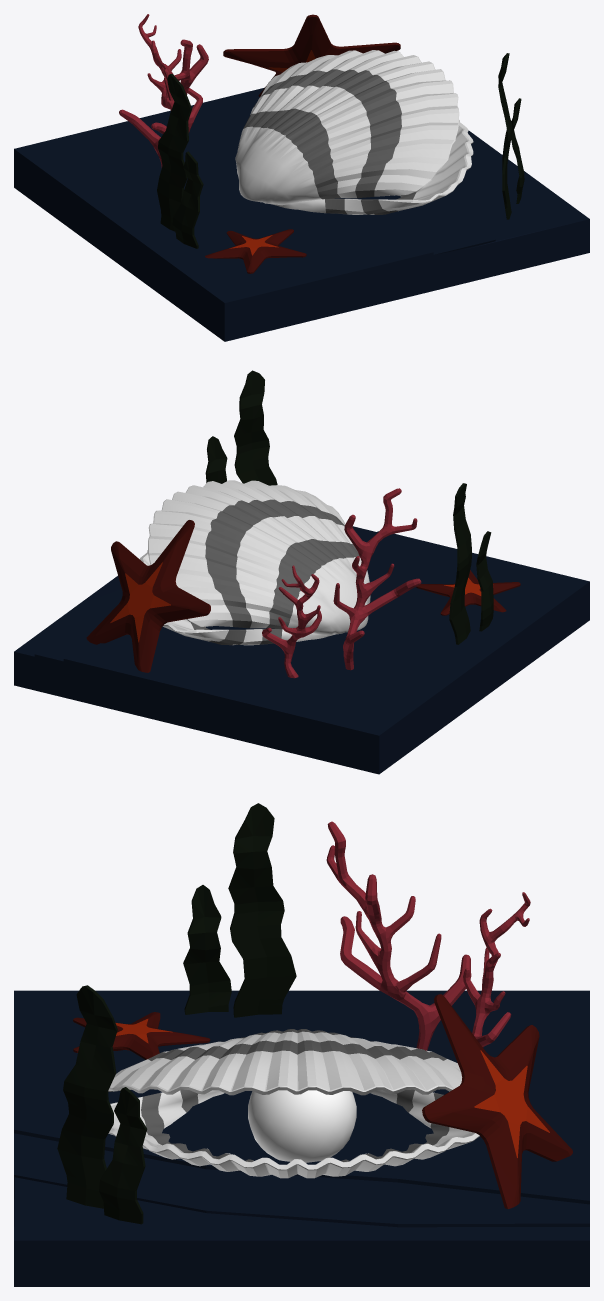
File: W_O_Playground_SeaSymbolic_002_L0.fbx
The picture shows the model from 3 angles, top to bottom: view 1: azimuth 30°, elevation 25°; view 2: azimuth 150°, elevation 25°; view 3: azimuth 270°, elevation 25°; orthographic projection. The views are drawn at different scales.
Parts seen in each view (by area): view 1: W_O_Playground_SeaSymbolic_002_L0; view 2: W_O_Playground_SeaSymbolic_002_L0; view 3: W_O_Playground_SeaSymbolic_002_L0.
Part boxes in pixels (x1,y1,x2,y2): W_O_Playground_SeaSymbolic_002_L0: (14,14,589,341); W_O_Playground_SeaSymbolic_002_L0: (14,370,589,774); W_O_Playground_SeaSymbolic_002_L0: (14,803,589,1286).
Size of the model in its own units: 3 by 1.56 by 3.
